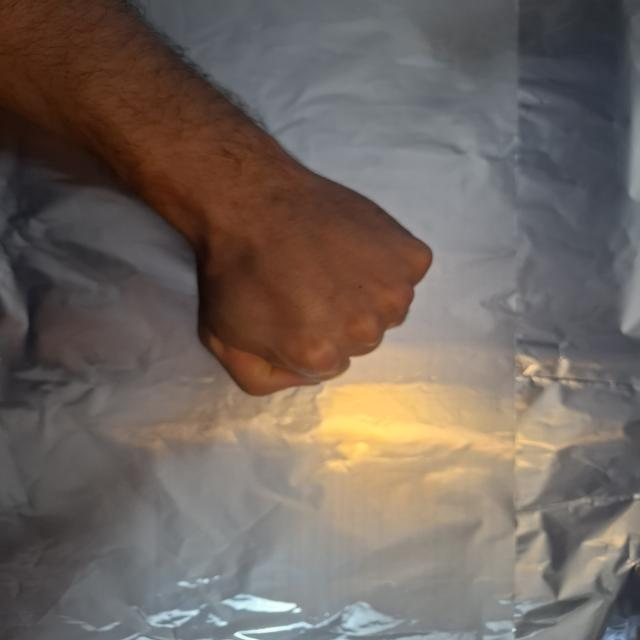glove_off: (184, 161, 436, 400)
